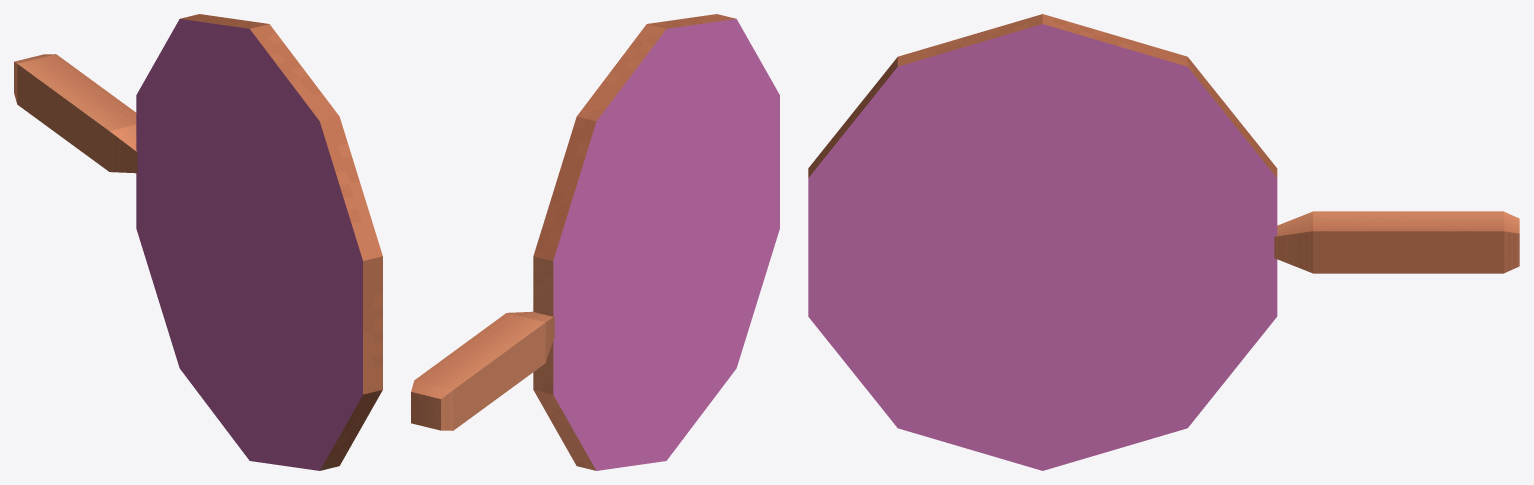
Rendered from paddle.glb.
3 renders of one model, left to right at view 1: azimuth 30°, elevation 25°; view 2: azimuth 150°, elevation 25°; view 3: azimuth 270°, elevation 25°, orthographic. The views are drawn at different scales.
Visible parts, largest first — view 1: frying-pan; view 2: frying-pan; view 3: frying-pan.
Boxes of the visible parts, x1,y1,x2,y2 form: frying-pan: (14, 14, 382, 470); frying-pan: (411, 14, 779, 470); frying-pan: (808, 14, 1519, 470).
Size of the model in its own units: 0.0622 by 0.6574 by 0.9485.
Materials: 1 (1 with a texture image).
